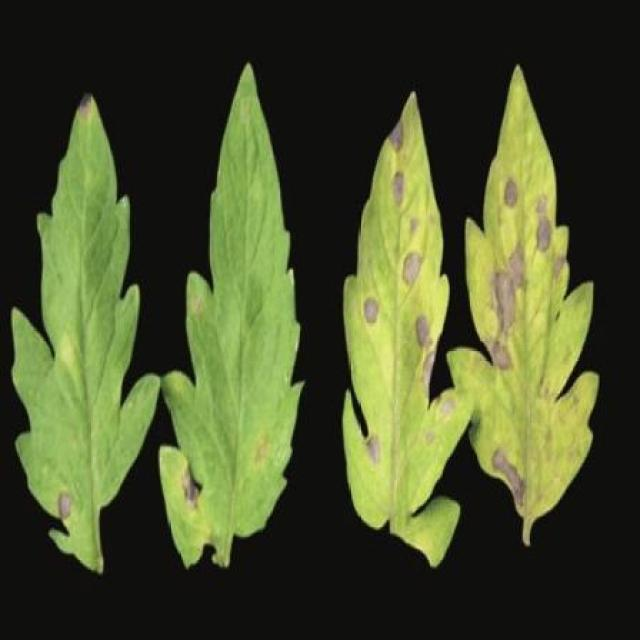Early Blight: (156, 58, 304, 566), (11, 84, 160, 573), (444, 67, 602, 520), (342, 87, 477, 566)
